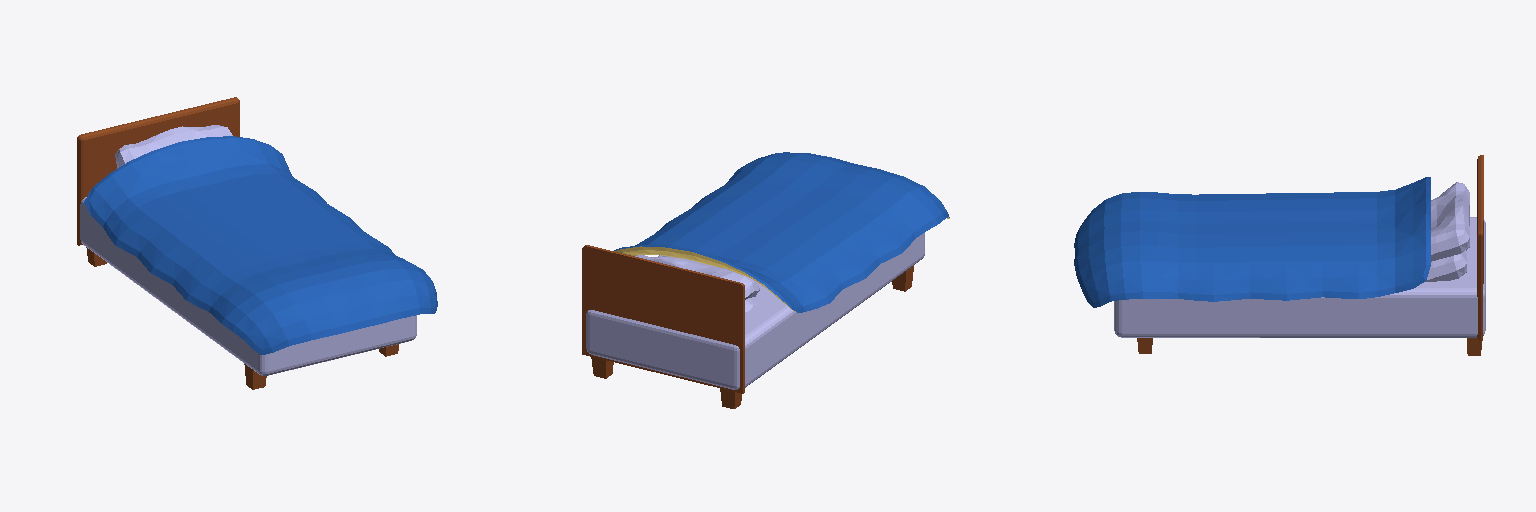
The picture shows the model from 3 angles: view 1: azimuth 30°, elevation 25°; view 2: azimuth 150°, elevation 25°; view 3: azimuth 270°, elevation 25°; orthographic projection.
Visible parts, largest first — view 1: Mesh1_bed_dxf1_Model; view 2: Mesh1_bed_dxf1_Model; view 3: Mesh1_bed_dxf1_Model.
Part boxes in pixels (x1,y1,x2,y2): Mesh1_bed_dxf1_Model: (77, 97, 437, 389); Mesh1_bed_dxf1_Model: (582, 152, 949, 408); Mesh1_bed_dxf1_Model: (1074, 155, 1485, 355).
Bounding box in the file's own units: 14.9 × 8.97 × 25.93.